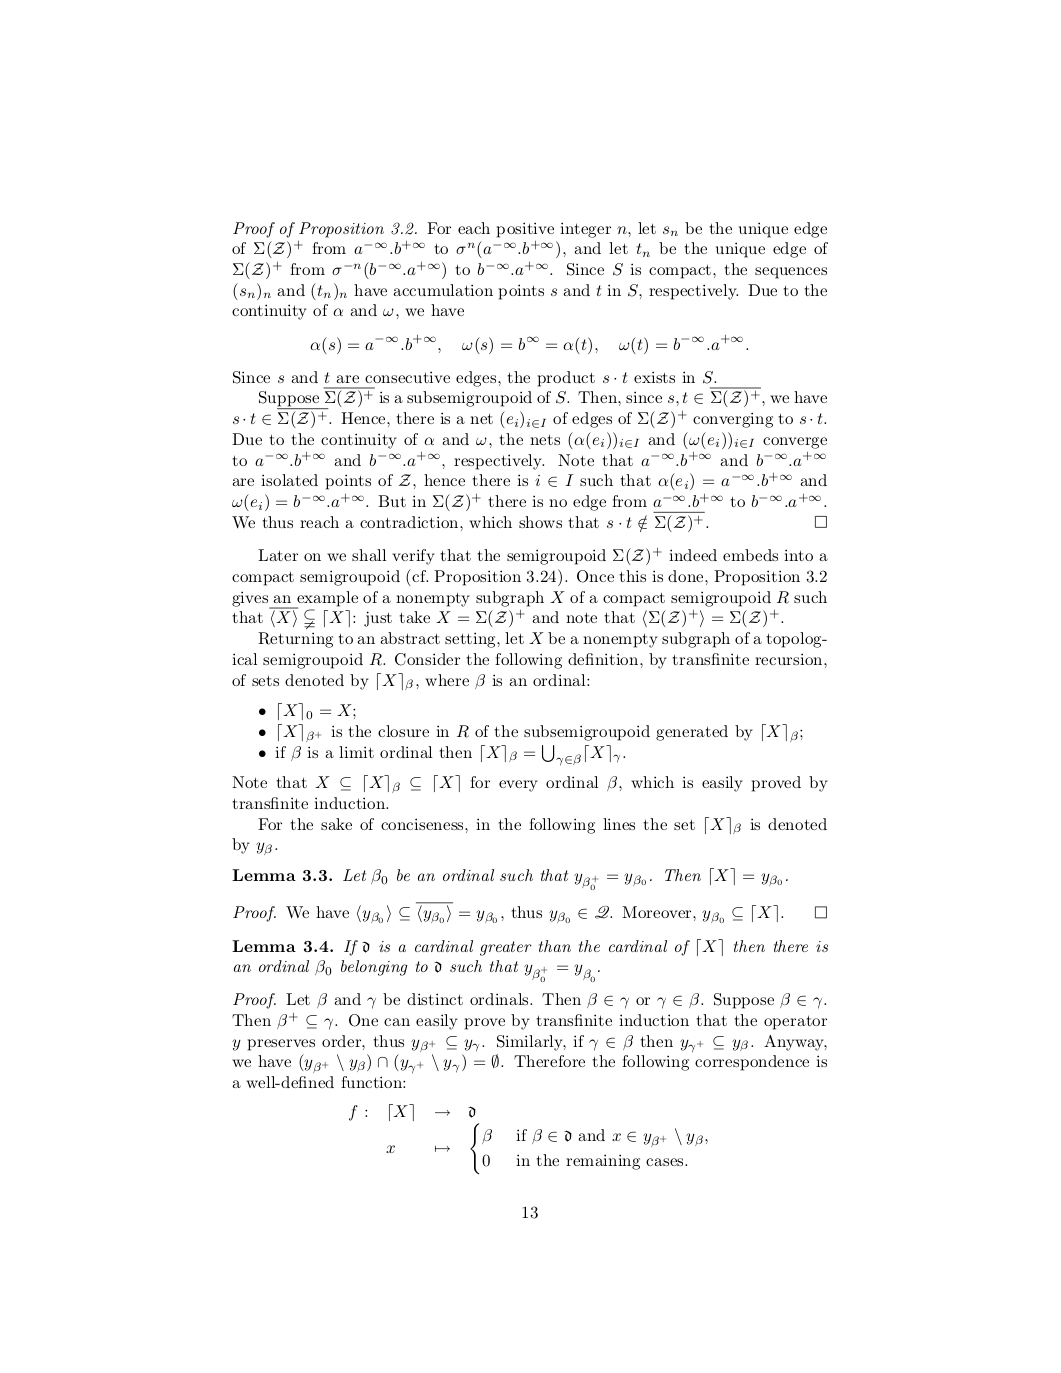formula: (386, 1122, 707, 1175), (310, 333, 748, 356), (349, 1102, 475, 1122)
